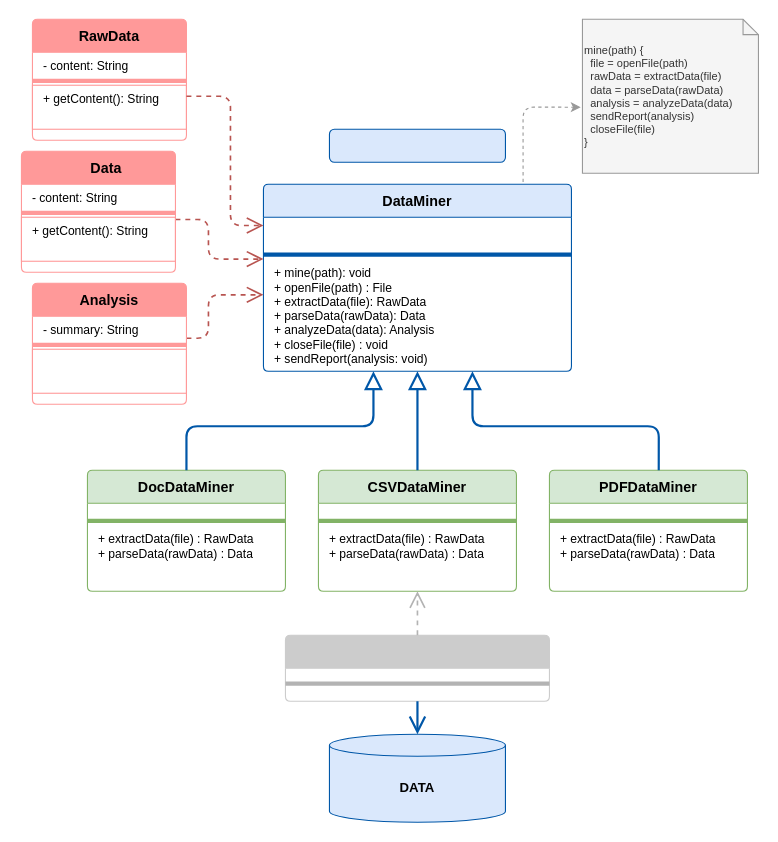
Image size: 778x842. Some labels were removed from this diagram. The centre of each missing label's shape, as x and y in pixels:
+ getSummary(): String: point 108,370
Client: point 416,667
«Template Method»: point 416,145
